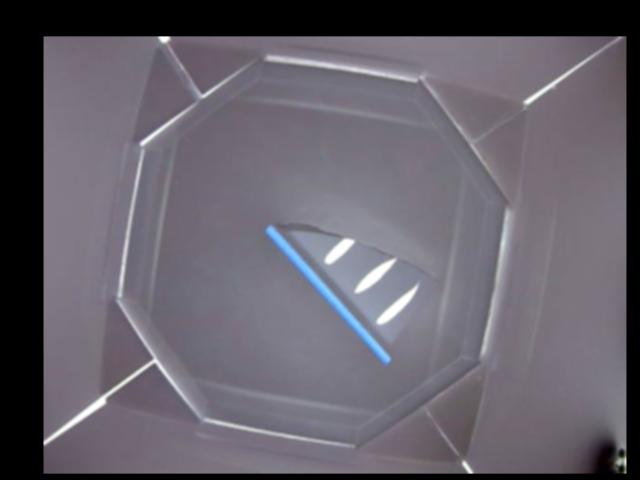China: (263, 222, 437, 365)
